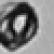correct: (1, 1, 40, 54)
